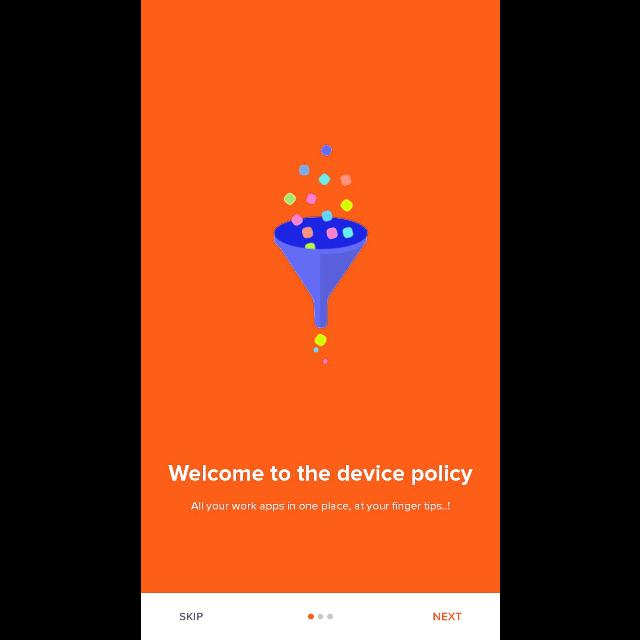image: (273, 145, 367, 365)
pageindicator: (308, 613, 332, 619)
text: (167, 464, 473, 486), (190, 502, 450, 512), (434, 612, 462, 620), (180, 612, 202, 620)
